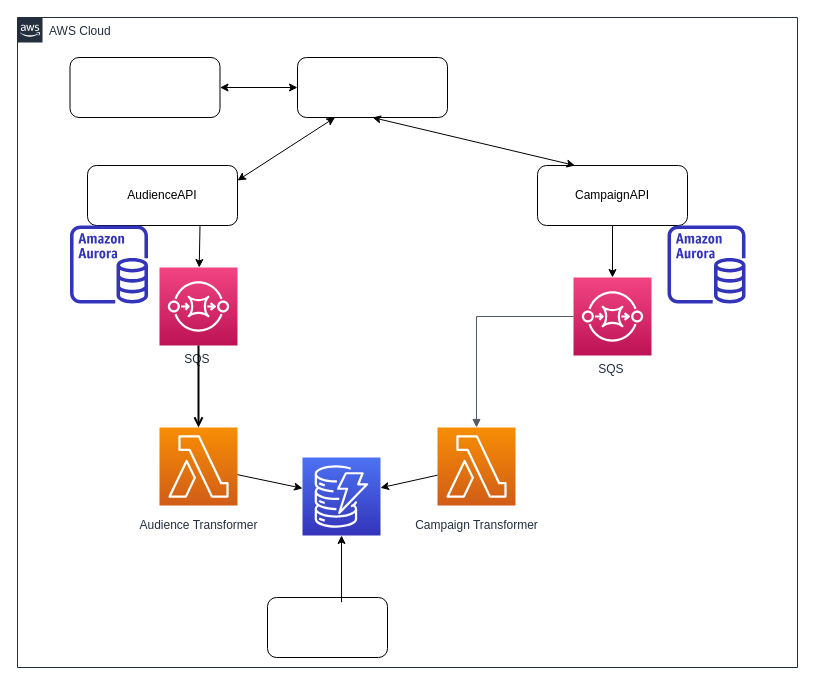
Some shapes in this 815 by 685 pixel diagram are drawn without their labels. Here are the shapes that lost their labels. From the top down, the box of each, then its label:
(69, 56, 220, 118): Marketing Admin 360 UI
(296, 56, 448, 118): Marketing Admin 360 BFF
(302, 456, 380, 536): Promo Metadata DB
(266, 596, 388, 658): Promo Metadata API
